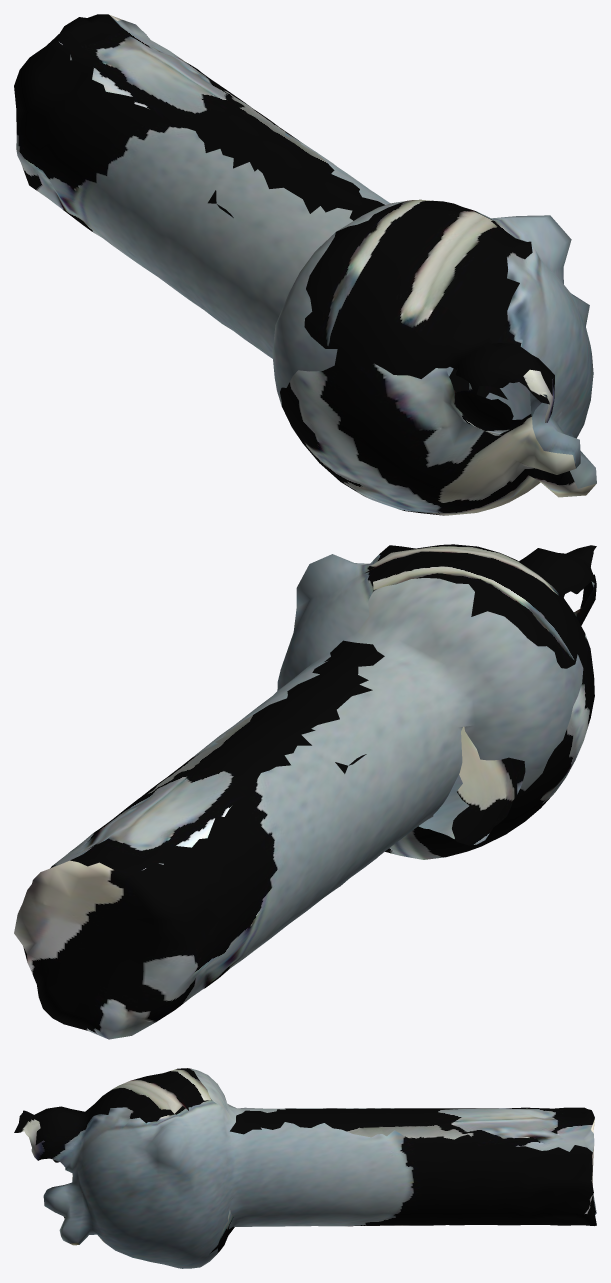
Rendered from scan_align.obj.
3 renders of one model, top to bottom at view 1: azimuth 30°, elevation 25°; view 2: azimuth 150°, elevation 25°; view 3: azimuth 270°, elevation 25°, orthographic. The views are drawn at different scales.
Size of the model in its own units: 0.032 by 0.0323 by 0.0962.
